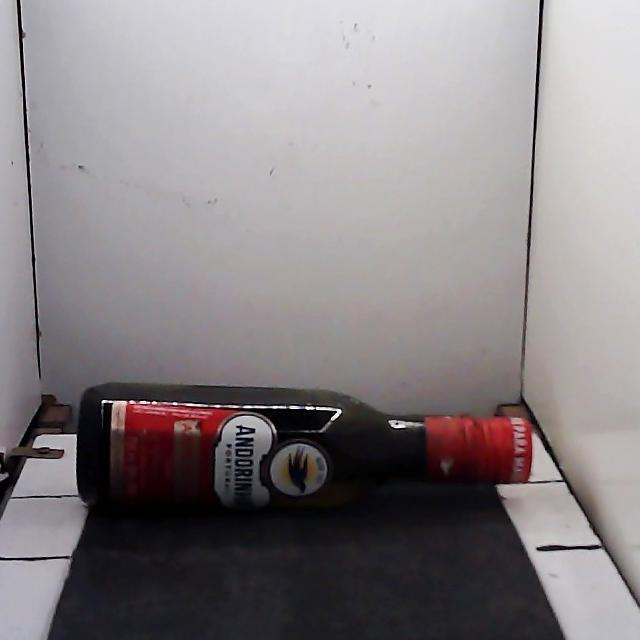vidro: (77, 383, 532, 510)
